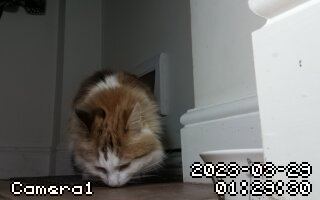clara: (65, 73, 164, 189)
